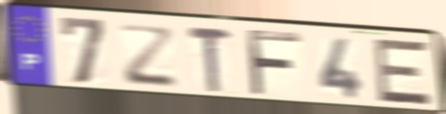4: (317, 36, 365, 101)
7: (57, 14, 109, 88)
E: (374, 36, 435, 108)
F: (243, 26, 304, 98)
T: (184, 24, 235, 95)
Z: (116, 21, 179, 90)
